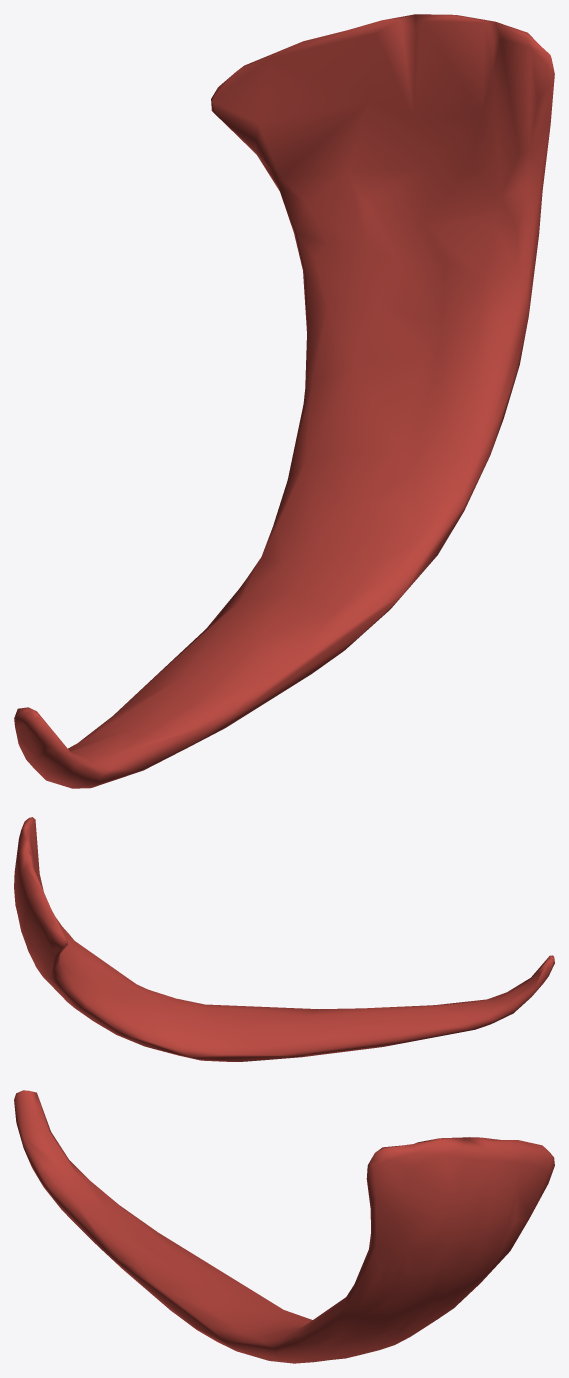
The model's file is musculos-inferior-oblique-muscle-l.glb.
The picture shows the model from 3 angles, top to bottom: view 1: azimuth 30°, elevation 25°; view 2: azimuth 150°, elevation 25°; view 3: azimuth 270°, elevation 25°; orthographic projection. The views are drawn at different scales.
Parts seen in each view (by area): view 1: Inferior oblique muscle.l; view 2: Inferior oblique muscle.l; view 3: Inferior oblique muscle.l.
Boxes of the visible parts, left/top/right/bottom form: Inferior oblique muscle.l: left=14, top=14, right=554, bottom=788; Inferior oblique muscle.l: left=14, top=817, right=554, bottom=1061; Inferior oblique muscle.l: left=14, top=1090, right=554, bottom=1363.
Bounding box in the file's own units: 0.0294 × 0.0162 × 0.026.
